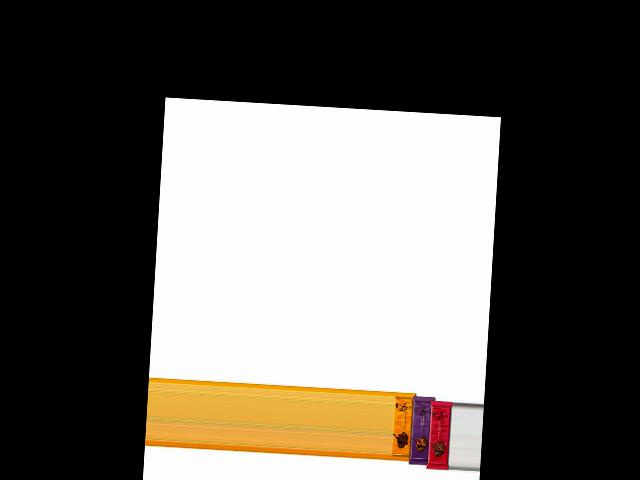chocolate: (426, 397, 453, 474)
